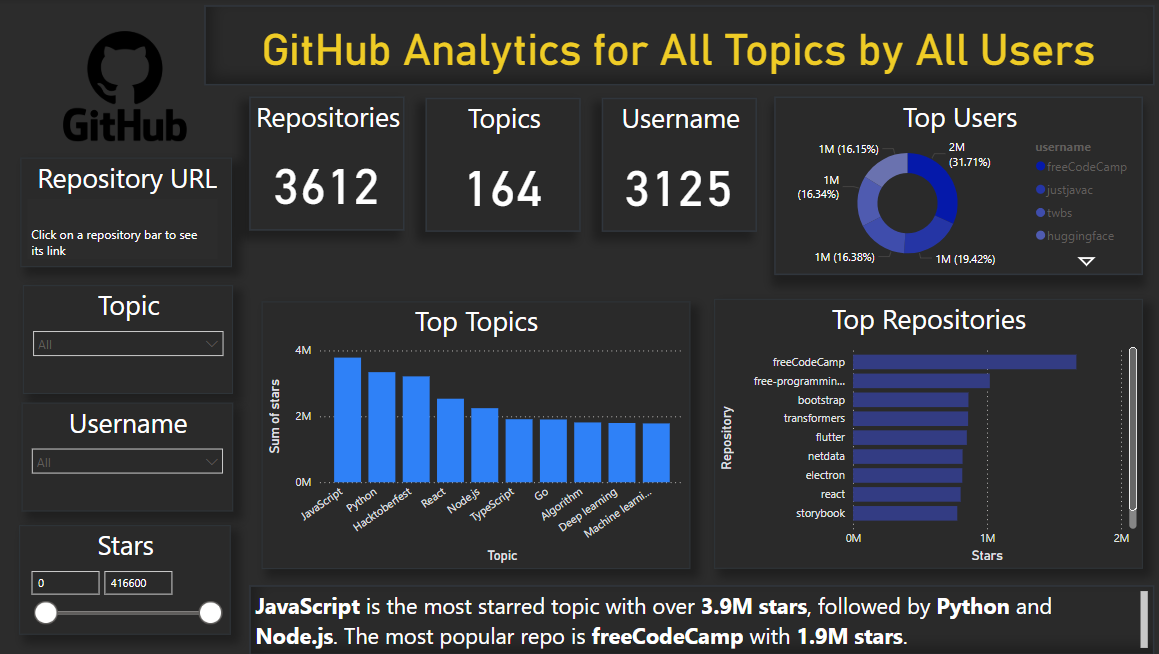

Layout of this report page (visuals, bound fields, positions):
{"tool":"powerbi","page":{"name":"Page 1","canvas":[1280,720],"ordinal":0},"visuals":[{"type":"card","title":"Topics","fields":{"Values":["Scraped_merged_Repositories.Topic"]},"box":[469.3,108.4,170.2,146.8],"z":0},{"type":"card","title":"Repositories","fields":{"Values":["Scraped_merged_Repositories.repo_name"]},"box":[275.8,107,170,146.8],"z":1000},{"type":"donutChart","title":"Top Users","fields":{"Y":["Scraped_merged_Repositories.stars"],"Category":["Sheet1.username"]},"box":[852.1,107,404.8,196.2],"z":2000},{"type":"image","box":[23.3,16.5,231.9,157.8],"z":3000},{"type":"slicer","title":"Topic","fields":{"Values":["Scraped_merged_Repositories.Topic"]},"box":[27.4,314.2,230.5,119.4],"z":4000},{"type":"lineClusteredColumnComboChart","title":"Top Topics","fields":{"Category":["Sheet1.Topic"],"Y":["Sheet1.stars"]},"box":[289.5,332.1,470,293.7],"z":5000},{"type":"slicer","title":"Username","fields":{"Values":["Scraped_merged_Repositories.username"]},"box":[26.1,443.2,231.9,119.4],"z":6000},{"type":"card","title":"Username","fields":{"Values":["Scraped_merged_Repositories.username"]},"box":[662.8,108.4,170.2,146.8],"z":7000},{"type":"slicer","title":"Stars","fields":{"Values":["Scraped_merged_Repositories.stars"]},"box":[23.3,577.7,231.9,120],"z":8000},{"type":"clusteredBarChart","title":"Top Repositories","fields":{"Category":["Scraped_merged_Repositories.repo_name"],"Y":["Scraped_merged_Repositories.stars"]},"box":[786.3,329.3,470,296.4],"z":9000},{"type":"tableEx","title":"Repository URL","fields":{"Values":["Sheet1.Selected Repo URL"]},"box":[24.5,174.9,232.3,120],"z":10000},{"type":"card","fields":{"Values":["Sheet1.DynamicTitle"]},"box":[226.4,6.9,1042.9,87.8],"z":11000},{"type":"textbox","box":[275.8,643.6,993.5,76.8],"z":12000}]}

Visuals, with their boxes in screenshot pixels (x1, y1, x2, y2), scaled from the page's 1280x720 canvas onto the 1159x654 screenshot:
"Topics" card: pyautogui.locateOnScreen(425, 98, 579, 232)
"Repositories" card: pyautogui.locateOnScreen(250, 97, 404, 231)
"Top Users" donutChart: pyautogui.locateOnScreen(772, 97, 1138, 275)
image: pyautogui.locateOnScreen(21, 15, 231, 158)
"Topic" slicer: pyautogui.locateOnScreen(25, 285, 234, 394)
"Top Topics" lineClusteredColumnComboChart: pyautogui.locateOnScreen(262, 302, 688, 568)
"Username" slicer: pyautogui.locateOnScreen(24, 403, 234, 511)
"Username" card: pyautogui.locateOnScreen(600, 98, 754, 232)
"Stars" slicer: pyautogui.locateOnScreen(21, 525, 231, 634)
"Top Repositories" clusteredBarChart: pyautogui.locateOnScreen(712, 299, 1138, 568)
"Repository URL" tableEx: pyautogui.locateOnScreen(22, 159, 233, 268)
card - Sheet1.DynamicTitle: pyautogui.locateOnScreen(205, 6, 1149, 86)
textbox: pyautogui.locateOnScreen(250, 585, 1149, 653)
